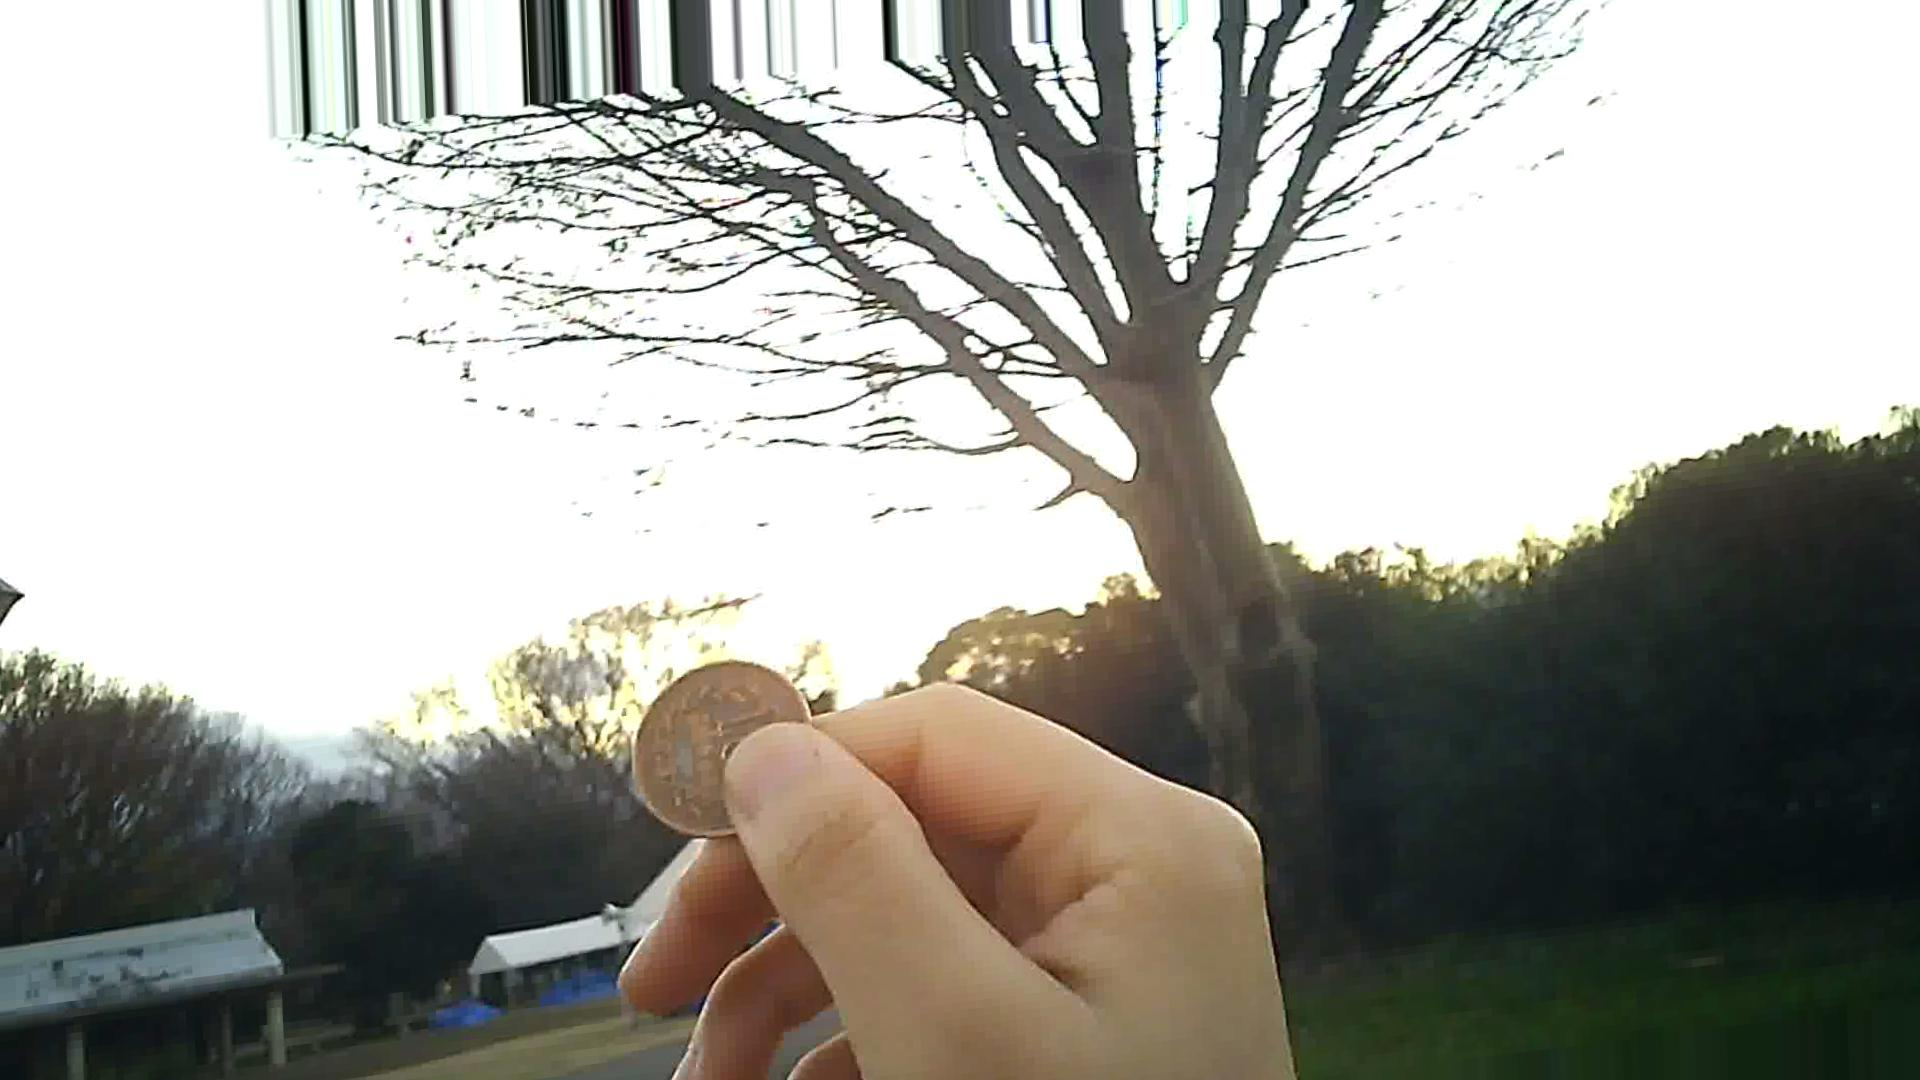10 Yen: (628, 659, 816, 818)
